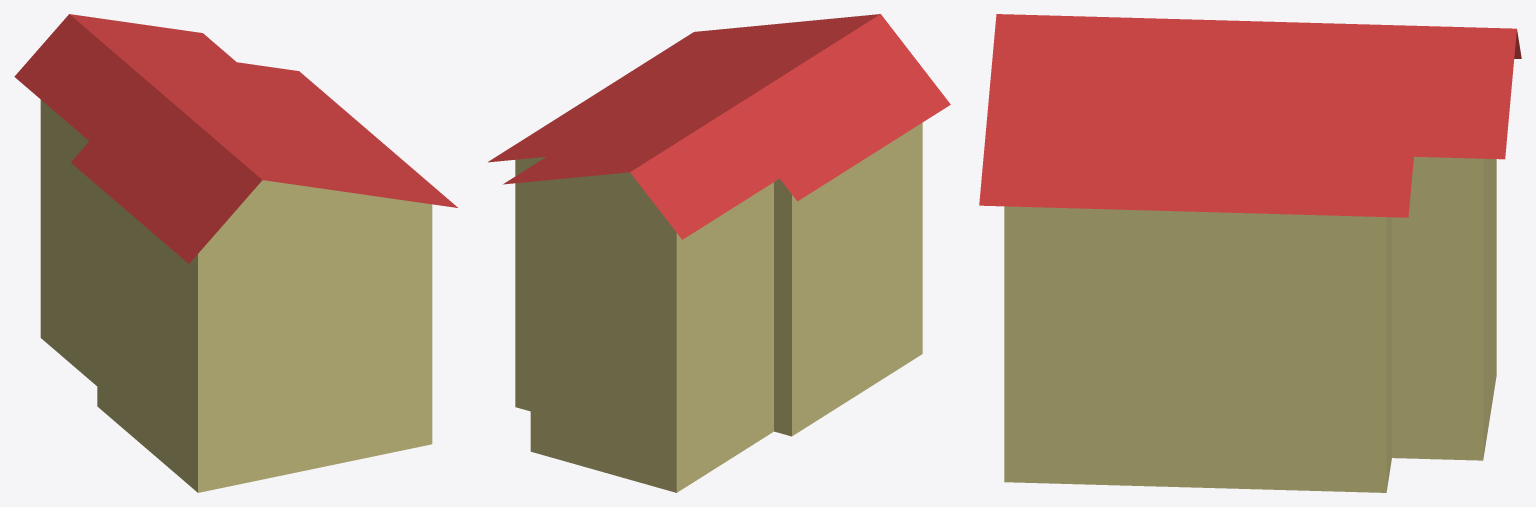
3 renders of one model, left to right at view 1: azimuth 30°, elevation 25°; view 2: azimuth 150°, elevation 25°; view 3: azimuth 270°, elevation 25°, orthographic. The views are drawn at different scales.
Size of the model in its own units: 12.27 by 17.26 by 12.91.
